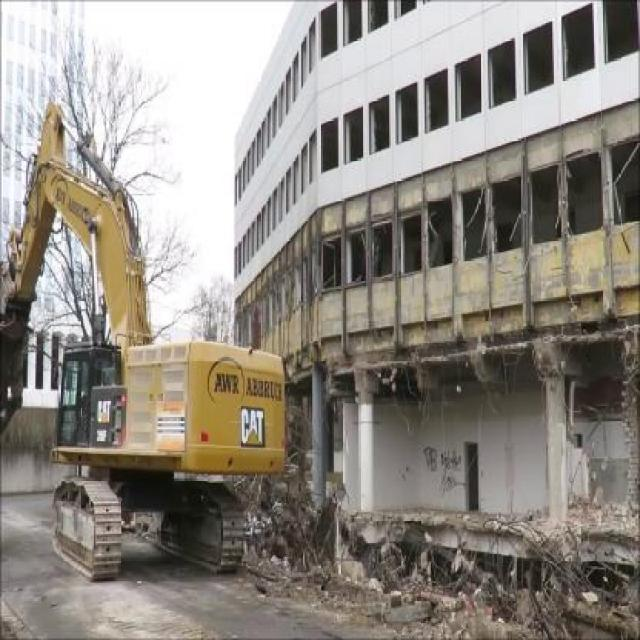Excavator: (0, 99, 286, 579)
